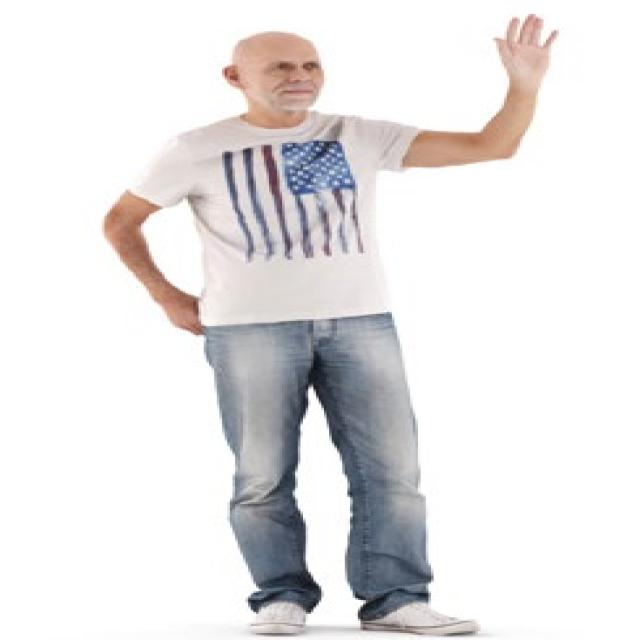standing: (96, 10, 566, 640)
